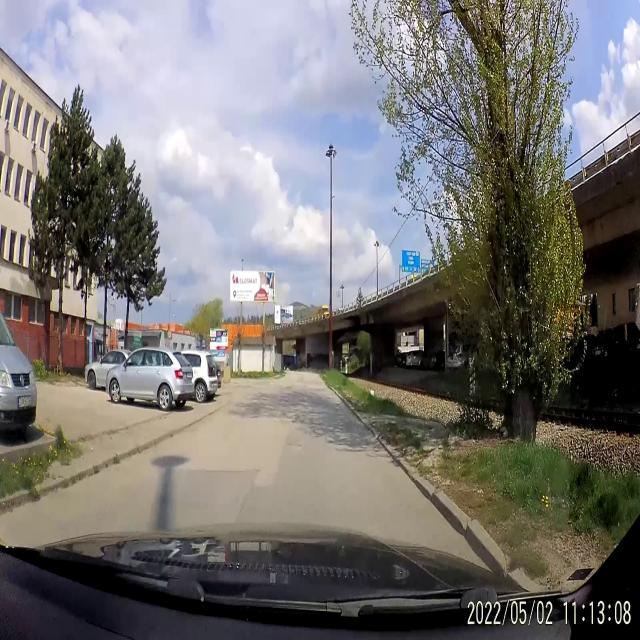Pothole: (286, 435, 312, 463)
